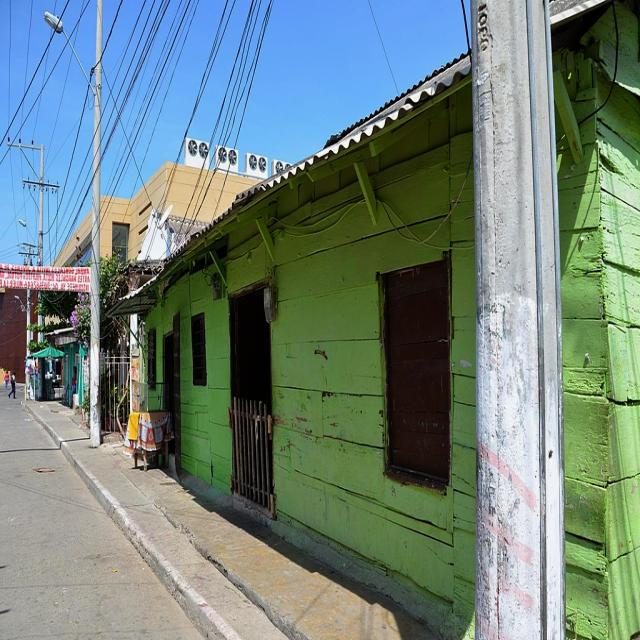fachada: (112, 56, 475, 638), (100, 139, 257, 259), (0, 289, 25, 383)
poste: (471, 0, 564, 639), (89, 0, 101, 447), (37, 145, 43, 266), (25, 289, 30, 359)
